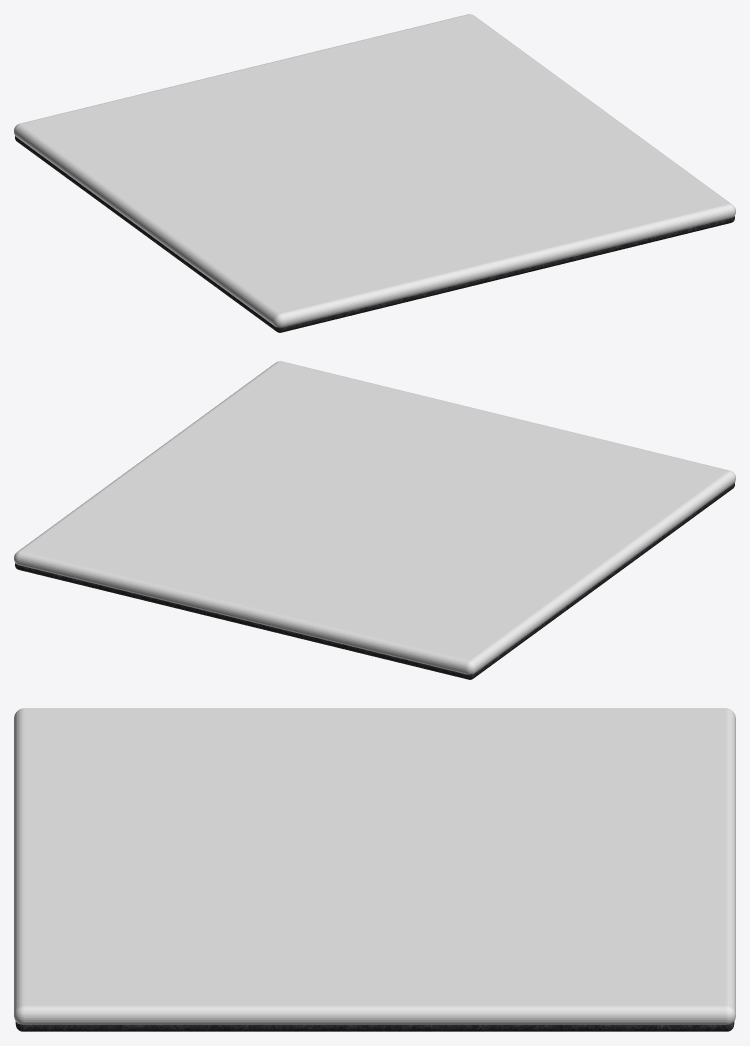
3 renders of one model, top to bottom at view 1: azimuth 30°, elevation 25°; view 2: azimuth 150°, elevation 25°; view 3: azimuth 270°, elevation 25°, orthographic. The views are drawn at different scales.
Parts seen in each view (by area): view 1: Cube.001; view 2: Cube.001; view 3: Cube.001.
Part boxes in pixels (x1,y1,x2,y2): Cube.001: (14,14,735,332); Cube.001: (14,361,735,679); Cube.001: (14,708,735,1031).
Bounding box in the file's own units: 0.1 × 0.00379 × 0.1.
Materials: 2 (1 with a texture image).
